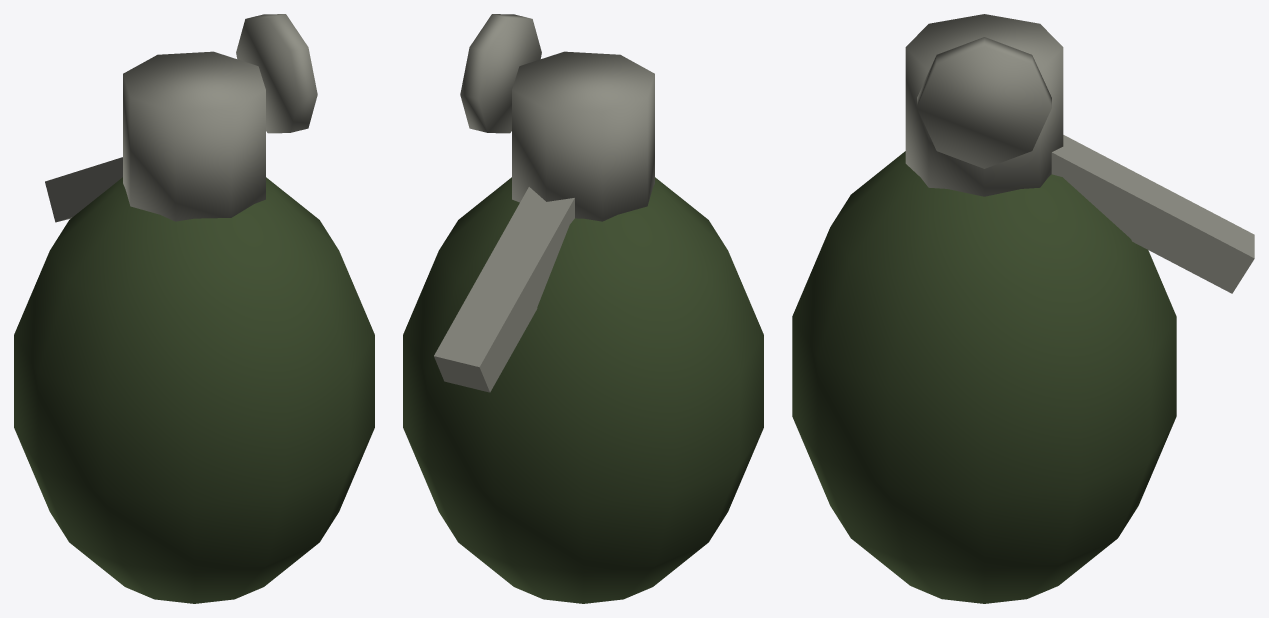
Rendered from grenade.glb.
The picture shows the model from 3 angles, left to right: view 1: azimuth 30°, elevation 25°; view 2: azimuth 150°, elevation 25°; view 3: azimuth 270°, elevation 25°; orthographic projection. The views are drawn at different scales.
Parts seen in each view (by area): view 1: Grenade; view 2: Grenade; view 3: Grenade.
Boxes of the visible parts, x1,y1,x2,y2 form: Grenade: [14, 14, 374, 603]; Grenade: [403, 14, 763, 603]; Grenade: [792, 14, 1254, 603].
Bounding box in the file's own units: 0.0682 × 0.1157 × 0.0821.
